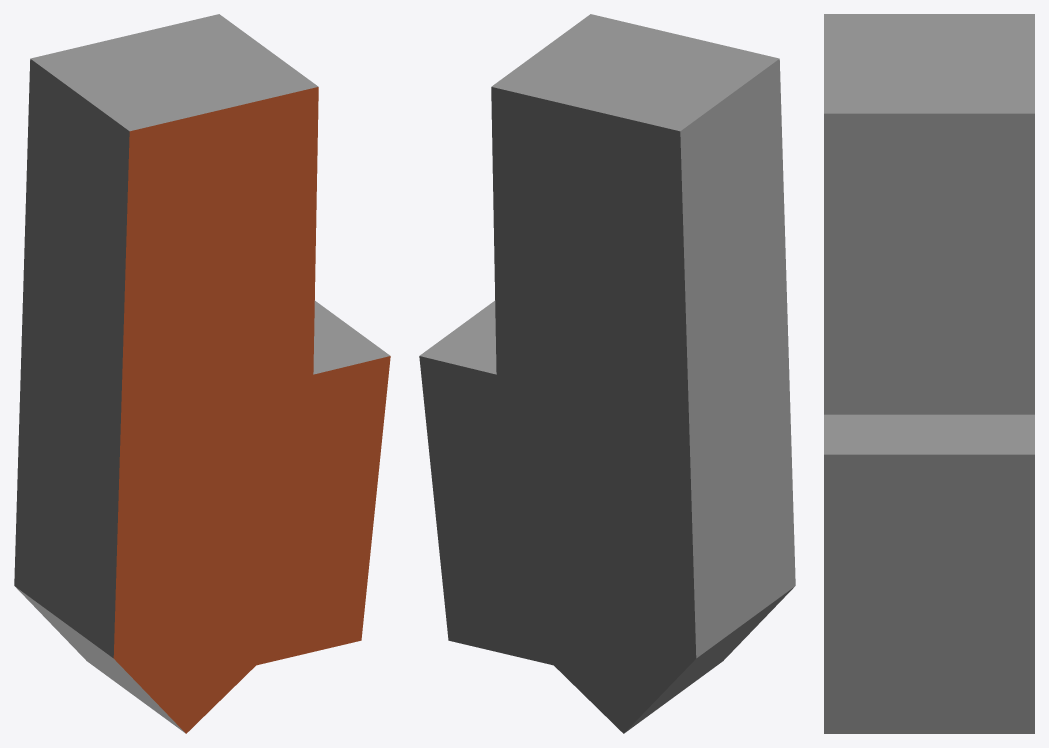
The model's file is construction_1050_assumed_A_Casa_h6m.obj.
3 views of the same model, side by side, from view 1: azimuth 30°, elevation 25°; view 2: azimuth 150°, elevation 25°; view 3: azimuth 270°, elevation 25° (orthographic). The views are drawn at different scales.
Parts seen in each view (by area): view 1: construction_1050_assumed_A_Casa; view 2: construction_1050_assumed_A_Casa; view 3: construction_1050_assumed_A_Casa.
Part boxes in pixels (<box>): construction_1050_assumed_A_Casa: <box>14,14,390,733</box>; construction_1050_assumed_A_Casa: <box>419,14,795,733</box>; construction_1050_assumed_A_Casa: <box>824,14,1034,733</box>.
Bounding box in the file's own units: 9.65 × 20.52 × 6.
